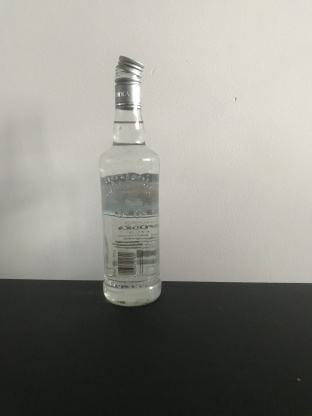nakretka: (113, 52, 145, 110)
